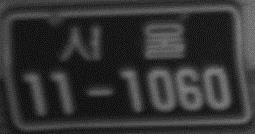-: (84, 83, 116, 101)
0: (144, 66, 176, 114), (201, 64, 232, 112)
1: (19, 68, 49, 119), (49, 69, 76, 118), (118, 65, 144, 115)
6: (174, 64, 205, 112)
서울_D: (54, 18, 187, 63)
